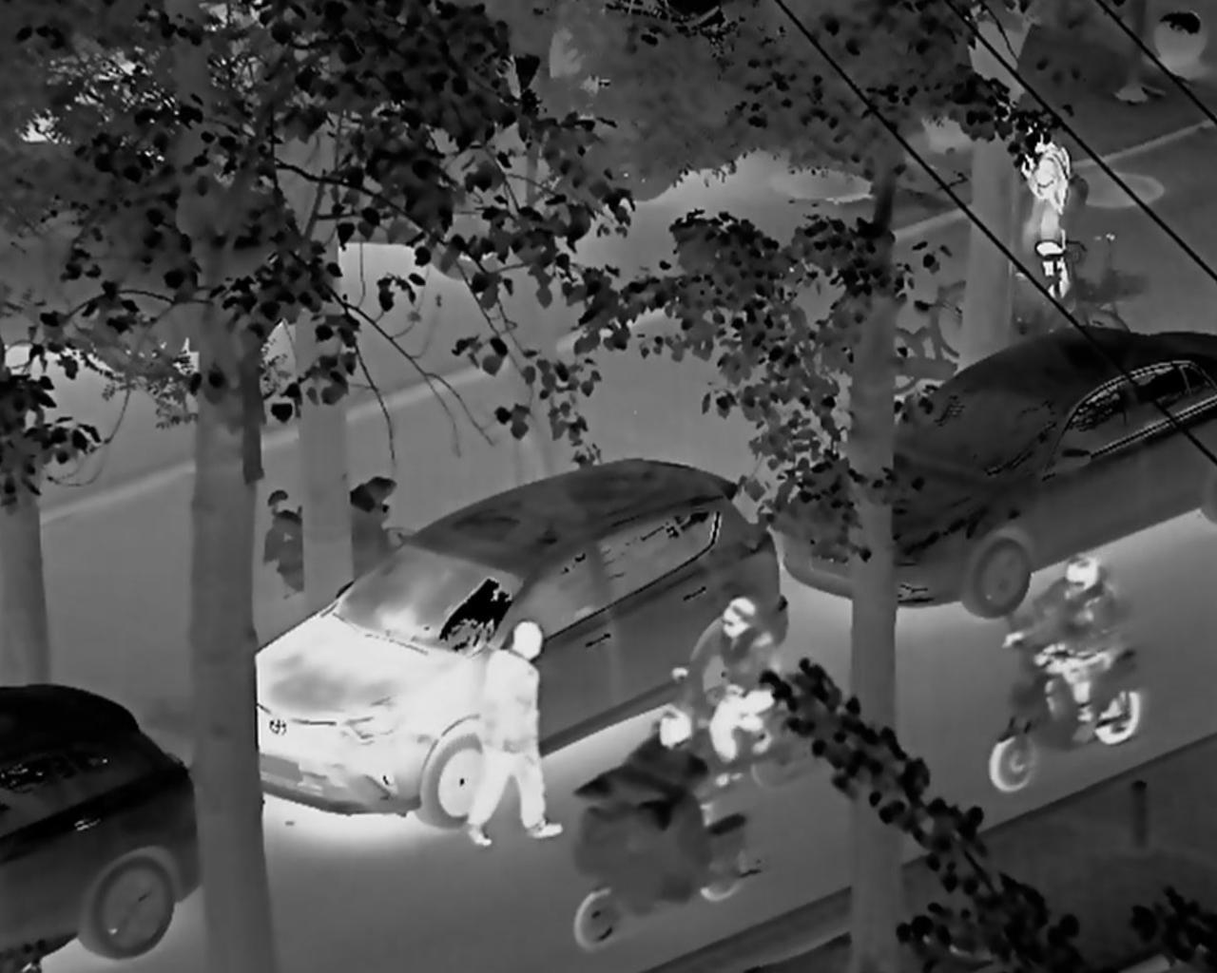person: (568, 706, 772, 939), (984, 545, 1152, 801), (672, 589, 813, 802), (457, 615, 571, 856), (1006, 114, 1097, 313)
